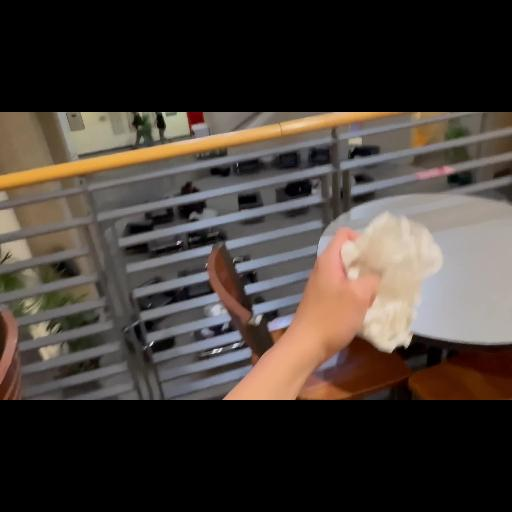napkin: (340, 208, 444, 354)
